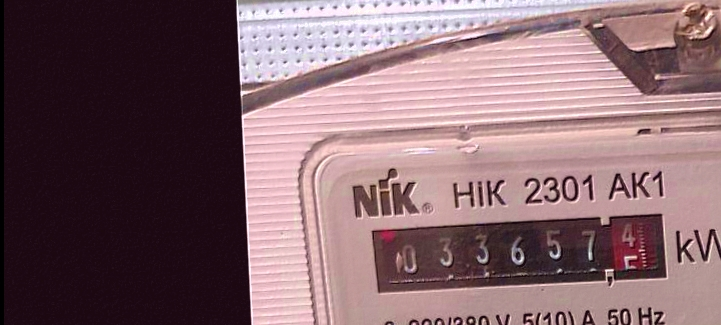0: (399, 239, 422, 277)
3: (437, 234, 458, 270), (473, 231, 493, 267)
4: (620, 219, 640, 250)
5: (543, 226, 567, 263)
6: (507, 232, 529, 268)
7: (580, 226, 600, 263)
screen: (360, 205, 677, 302)
